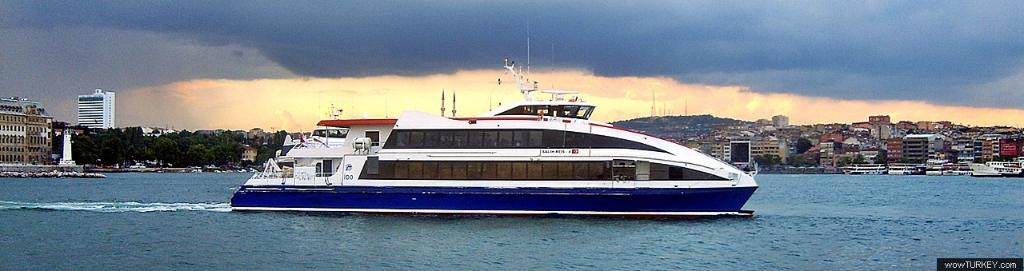PassengerShip: (222, 34, 758, 222)
